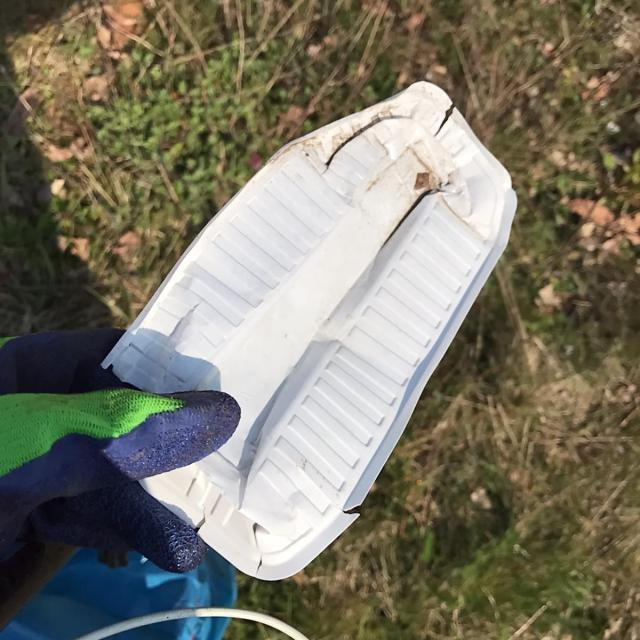Plastic: (107, 72, 520, 584)
